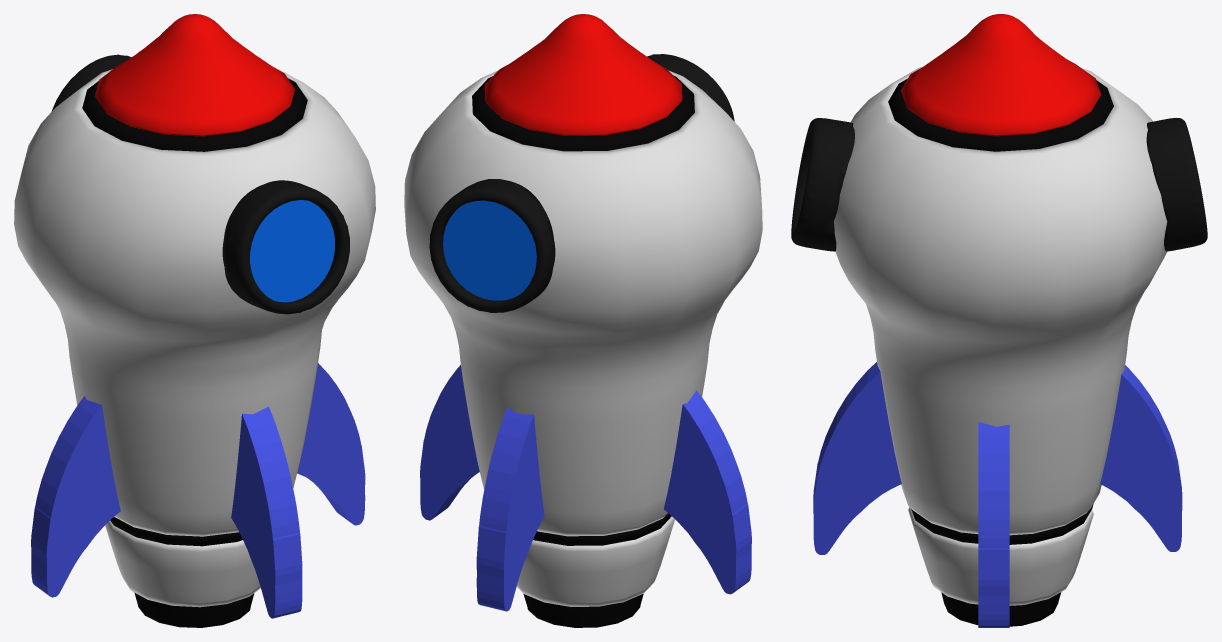
Rendered from Rocket4.fbx.
3 views of the same model, side by side, from view 1: azimuth 30°, elevation 25°; view 2: azimuth 150°, elevation 25°; view 3: azimuth 270°, elevation 25° (orthographic).
Visible parts, largest first — view 1: Rocket3; view 2: Rocket3; view 3: Rocket3.
Boxes of the visible parts, left/top/right/bottom form: Rocket3: left=14, top=14, right=375, bottom=627; Rocket3: left=404, top=14, right=762, bottom=627; Rocket3: left=791, top=14, right=1207, bottom=627.
Size of the model in its own units: 295 by 521 by 335.
